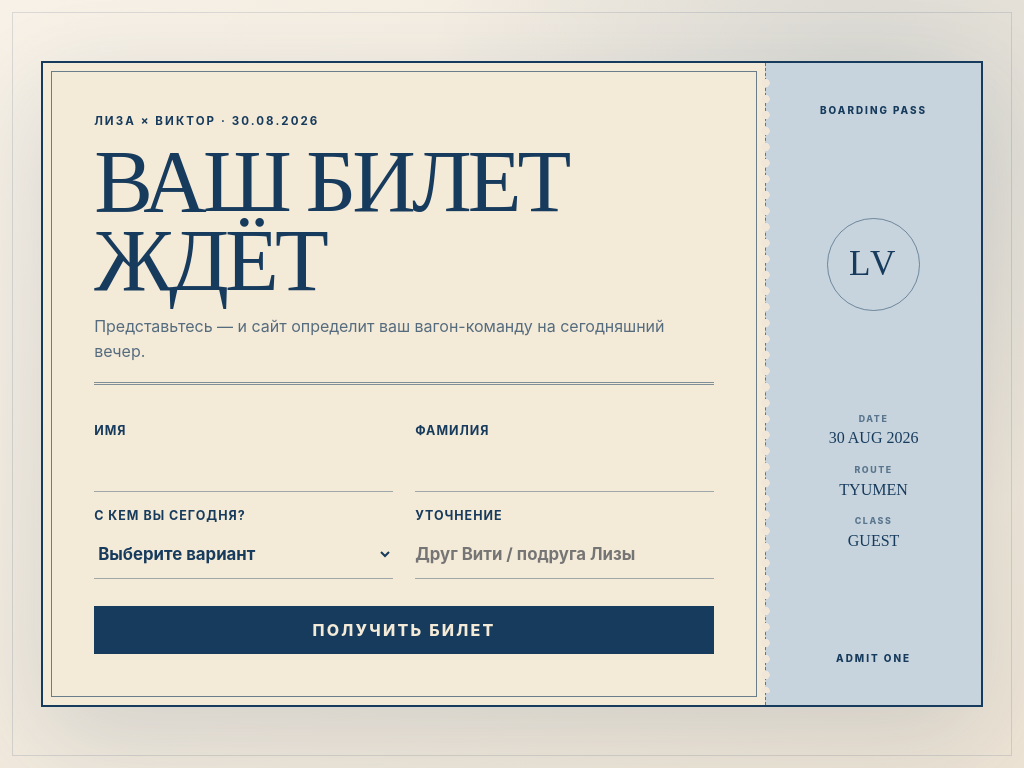
Test: RegistrationPage › shows required-field errors before registration
Step 1. Click the button "ПОЛУЧИТЬ БИЛЕТ" → (404, 630), box 94,606 -> 714,654
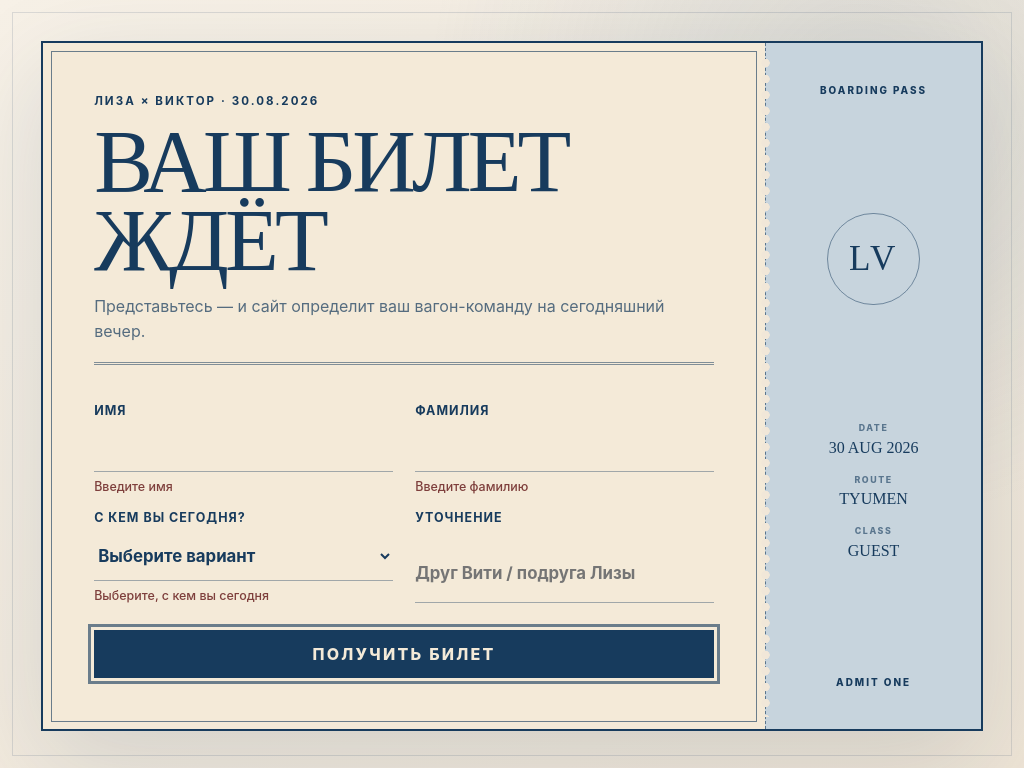
Now the text "Введите имя" is shown, box 94,479 -> 173,494
Now the text "Введите фамилию" is shown, box 415,479 -> 528,494
Now the text "Выберите, с кем вы сегодня" is shown, box 94,588 -> 269,603
